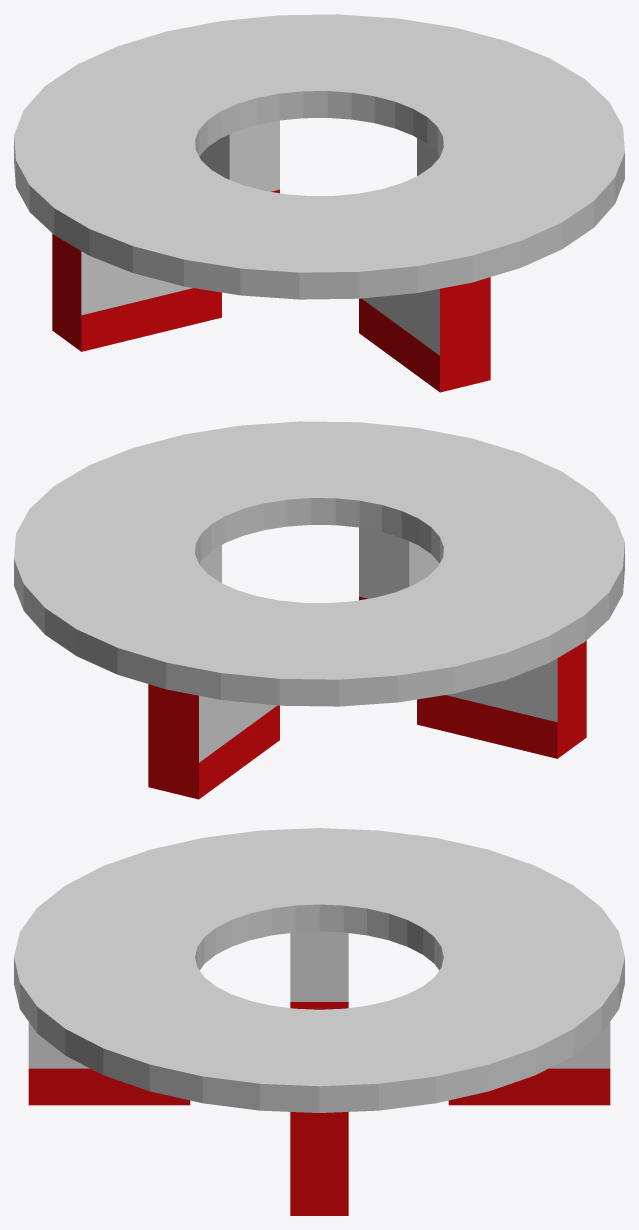
The model's file is lingin.fbx.
3 renders of one model, top to bottom at view 1: azimuth 30°, elevation 25°; view 2: azimuth 150°, elevation 25°; view 3: azimuth 270°, elevation 25°, orthographic.
Visible parts, largest first — view 1: Cylinder, Cube; view 2: Cylinder, Cube; view 3: Cylinder, Cube.
Boxes of the visible parts, x1=… form: Cylinder: x1=14, y1=14, x2=624, y2=299; Cube: x1=52, y1=120, x2=490, y2=392; Cylinder: x1=14, y1=421, x2=624, y2=706; Cube: x1=148, y1=527, x2=586, y2=799; Cylinder: x1=14, y1=828, x2=624, y2=1112; Cube: x1=28, y1=931, x2=610, y2=1215.
Size of the model in its own units: 534 by 131 by 534.
